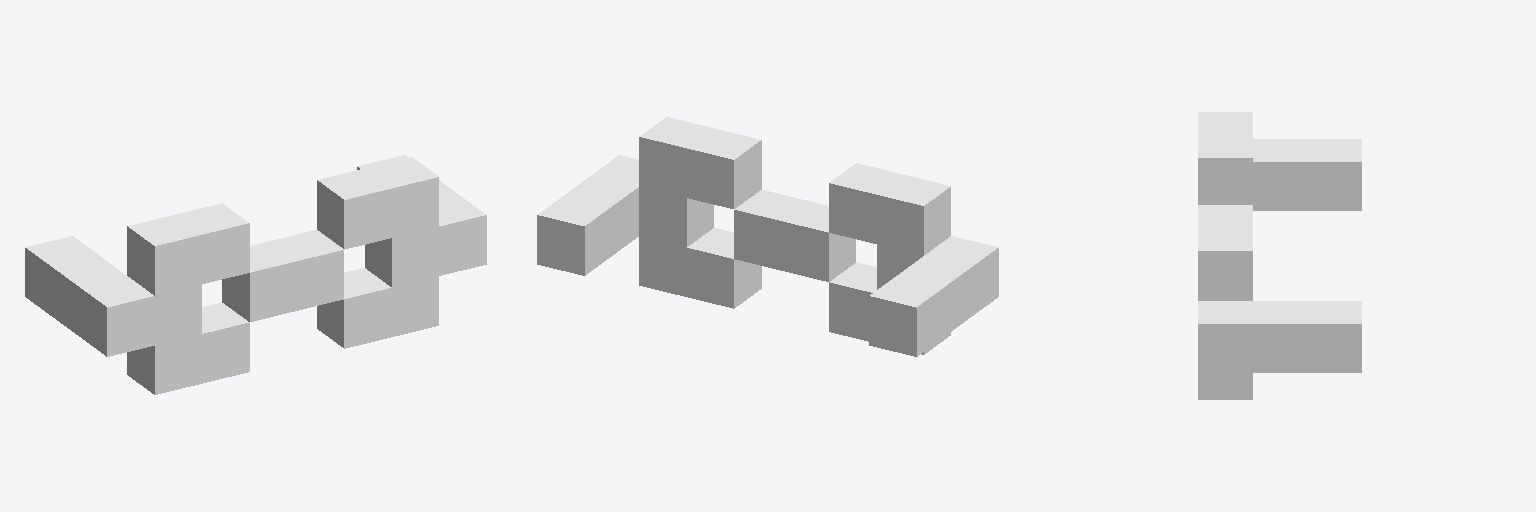
The model's file is ama02-11.obj.
3 views of the same model, side by side, from view 1: azimuth 30°, elevation 25°; view 2: azimuth 150°, elevation 25°; view 3: azimuth 270°, elevation 25° (orthographic).
Visible parts, largest first — view 1: ama02-11; view 2: ama02-11; view 3: ama02-11.
Boxes of the visible parts, x1,y1,x2,y2 form: ama02-11: [25, 155, 486, 394]; ama02-11: [537, 117, 998, 356]; ama02-11: [1198, 112, 1361, 399].
Size of the model in its own units: 8 by 3 by 3.